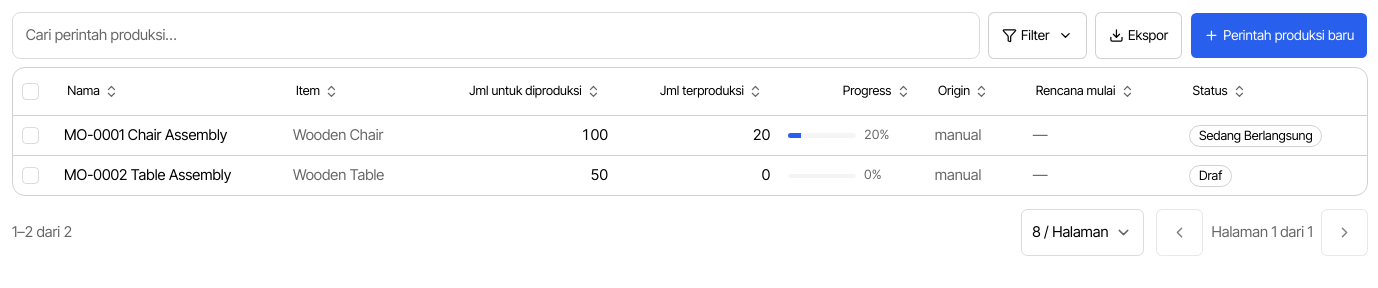
Test case: MoSection › filters orders by search
Expected: the link "MO-0001 Chair Assembly" is shown, [64,126,227,144]
Type "Table" into the search field with placeholder "Cari perintah produksi…".
click(496, 35); type("Table")  # box [12,12,980,59]
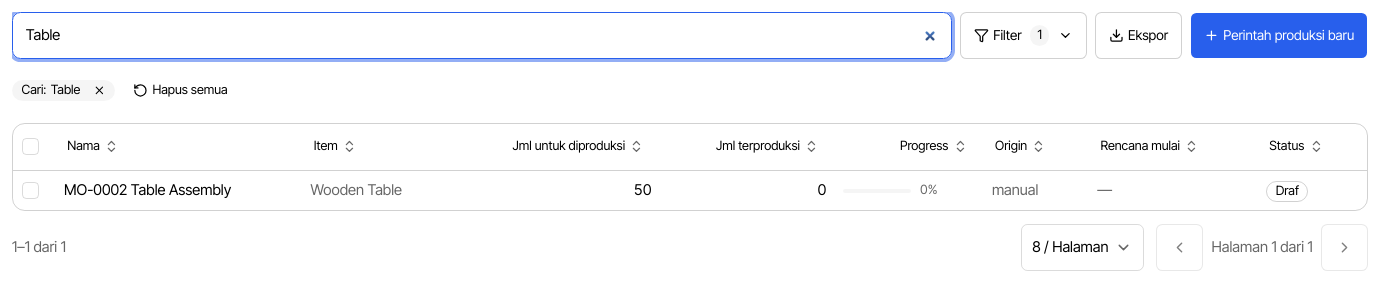
Expected: the link "MO-0002 Table Assembly" is shown, [64,181,231,199]
Now the link "MO-0001 Chair Assembly" is gone
